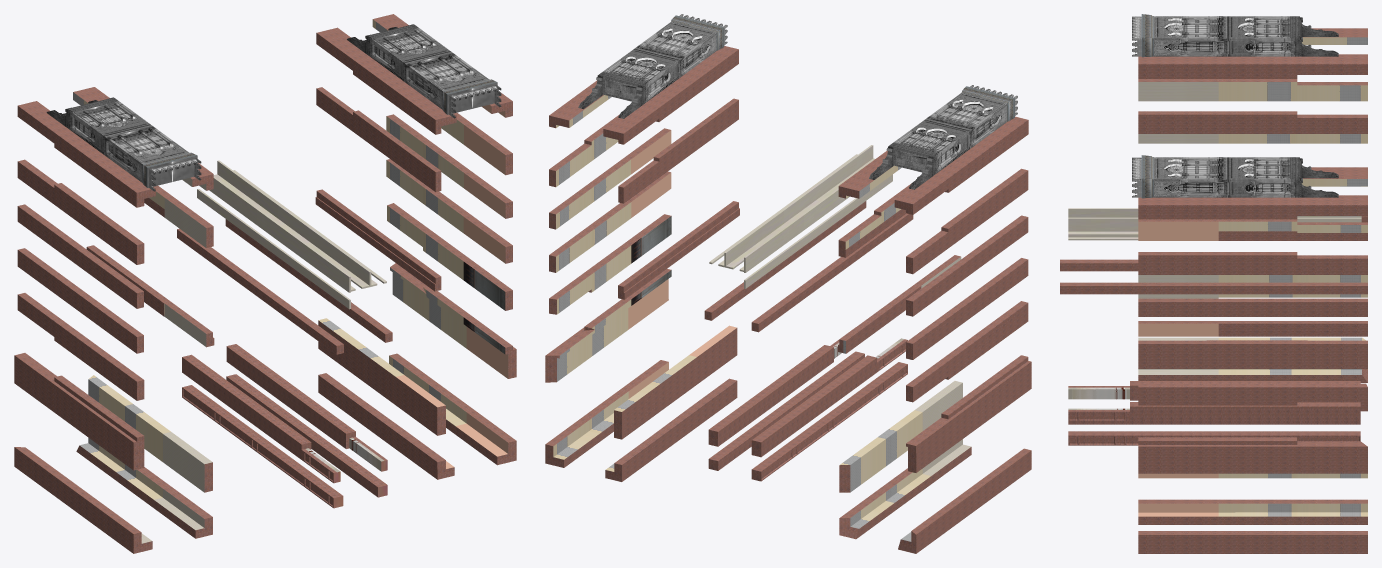
Rendered from castelo_mourisco_outras.fbx.
3 renders of one model, left to right at view 1: azimuth 30°, elevation 25°; view 2: azimuth 150°, elevation 25°; view 3: azimuth 270°, elevation 25°, orthographic. The views are drawn at different scales.
Parts seen in each view (by area): view 1: colunas_tijolo, paredes_torre_oeste, torre_anexa, torre_anexa.001, colunas_tijolo.003, colunas_tijolo.004, colunas_tijolo.002, colunas_tijolo.001; view 2: colunas_tijolo, torre_anexa, torre_anexa.001, paredes_torre_oeste, colunas_tijolo.004, colunas_tijolo.003, colunas_tijolo.002, colunas_tijolo.001; view 3: colunas_tijolo, torre_anexa, torre_anexa.001, colunas_tijolo.003, colunas_tijolo.001, paredes_torre_oeste, colunas_tijolo.004, colunas_tijolo.002.
Boxes of the visible parts, <box> form: colunas_tijolo: <box>14,14,516,553</box>; paredes_torre_oeste: <box>197,160,386,309</box>; torre_anexa: <box>347,24,501,118</box>; torre_anexa.001: <box>46,97,201,191</box>; colunas_tijolo.003: <box>226,344,387,471</box>; colunas_tijolo.004: <box>182,354,340,483</box>; colunas_tijolo.002: <box>182,385,343,508</box>; colunas_tijolo.001: <box>226,374,387,497</box>; colunas_tijolo: <box>545,46,1031,553</box>; torre_anexa: <box>578,14,727,118</box>; torre_anexa.001: <box>869,85,1017,189</box>; paredes_torre_oeste: <box>709,145,892,288</box>; colunas_tijolo.004: <box>751,338,907,457</box>; colunas_tijolo.003: <box>708,327,855,446</box>; colunas_tijolo.002: <box>751,362,907,481</box>; colunas_tijolo.001: <box>708,351,864,470</box>; colunas_tijolo: <box>1060,28,1367,553</box>; torre_anexa: <box>1132,155,1338,198</box>; torre_anexa.001: <box>1132,14,1338,57</box>; colunas_tijolo.003: <box>1068,402,1360,421</box>; colunas_tijolo.001: <box>1068,431,1360,445</box>; paredes_torre_oeste: <box>1068,208,1361,240</box>; colunas_tijolo.004: <box>1068,381,1360,400</box>; colunas_tijolo.002: <box>1068,421,1360,424</box>.
Size of the model in its own units: 4726 by 4494 by 3415.
